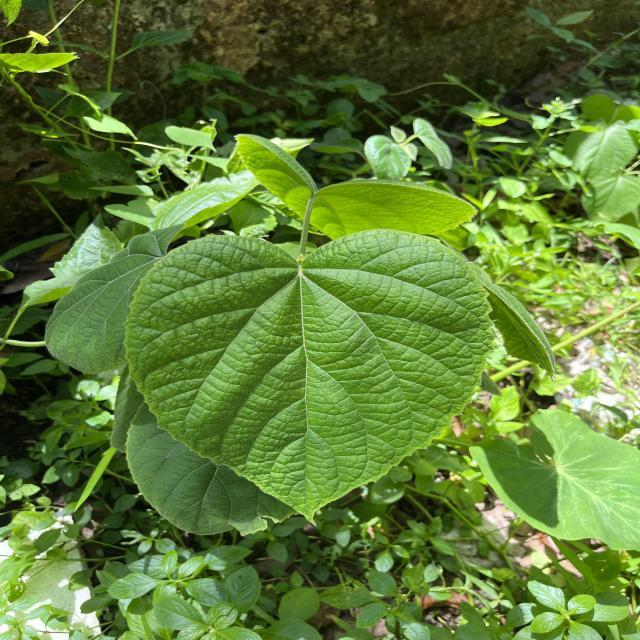Clerodendrum infortunatum: (121, 227, 496, 528)
